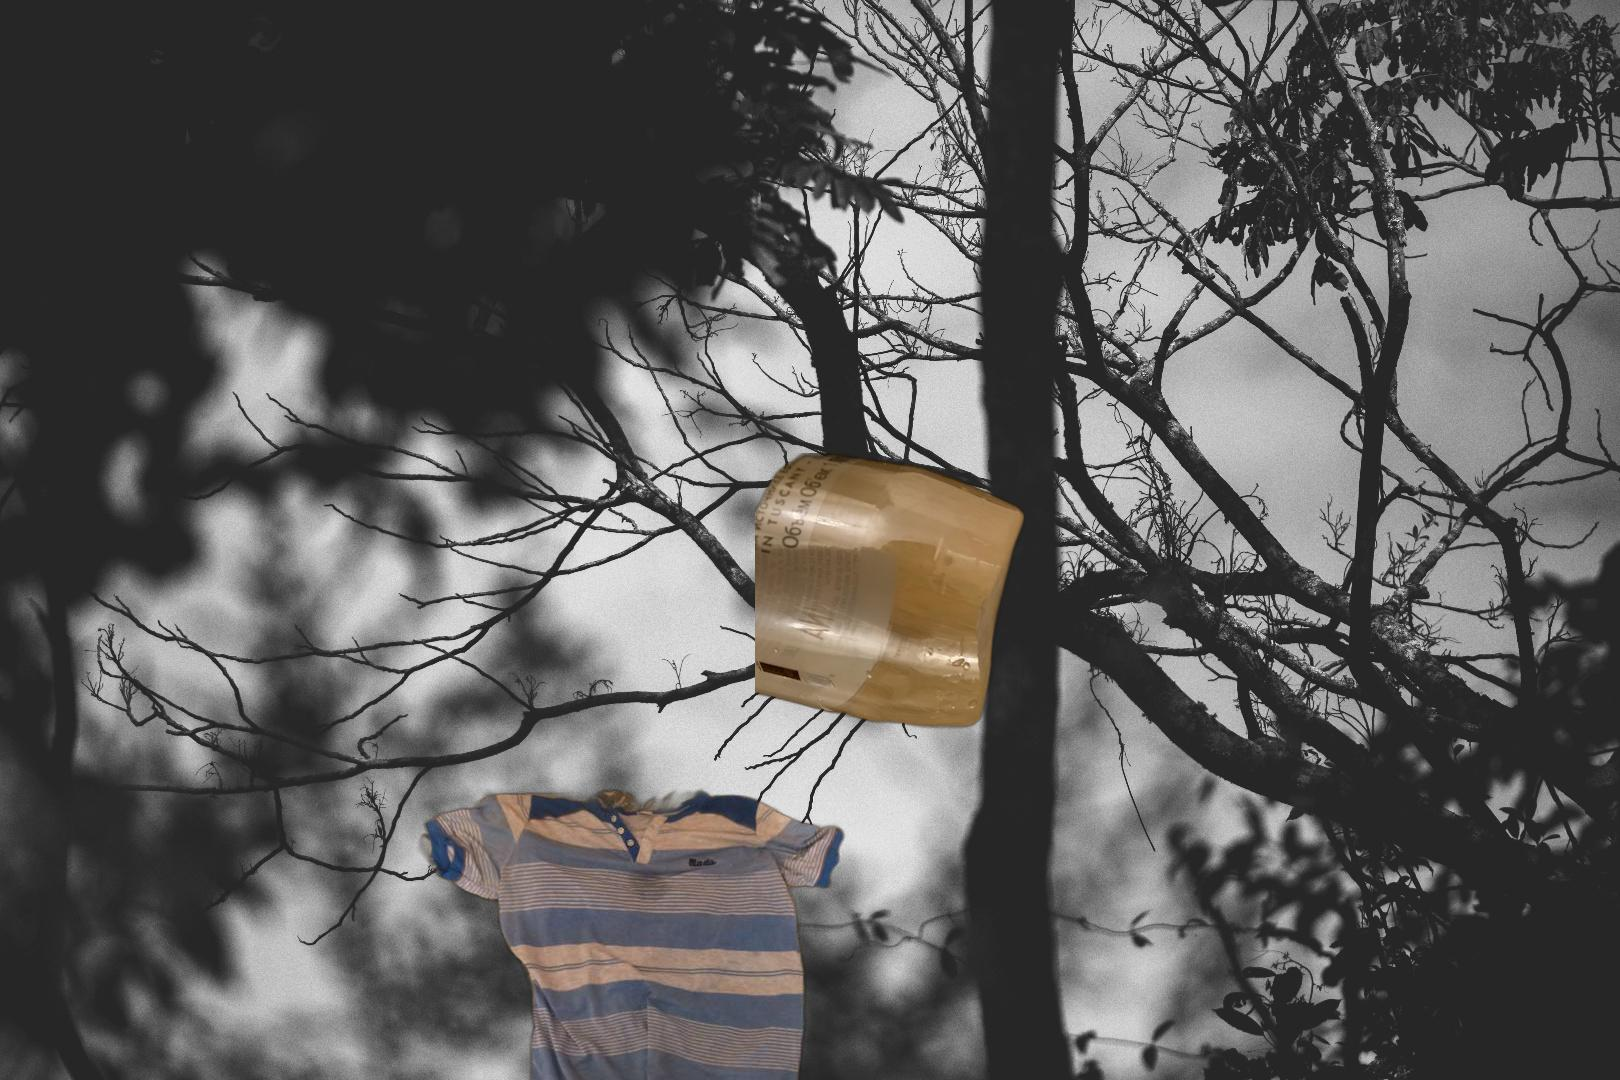clothes: (415, 777, 851, 1080)
plastic-bottles: (755, 453, 1028, 733)
